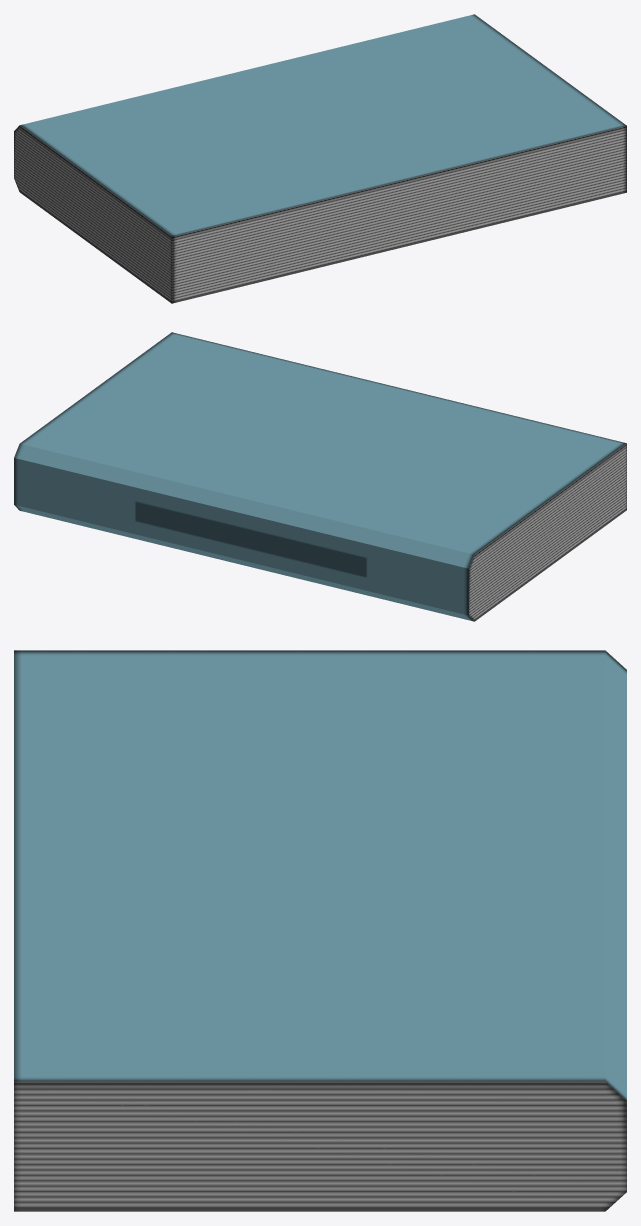
The model's file is book3.fbx.
3 views of the same model, one above another, from view 1: azimuth 30°, elevation 25°; view 2: azimuth 150°, elevation 25°; view 3: azimuth 270°, elevation 25° (orthographic). The views are drawn at different scales.
Parts seen in each view (by area): view 1: polySurface1127; view 2: polySurface1127; view 3: polySurface1127.
Part boxes in pixels (x1,y1,x2,y2): polySurface1127: (14, 14, 626, 303); polySurface1127: (14, 332, 626, 621); polySurface1127: (14, 650, 626, 1211).
Size of the model in its own units: 0.4212 by 0.0592 by 0.253.
